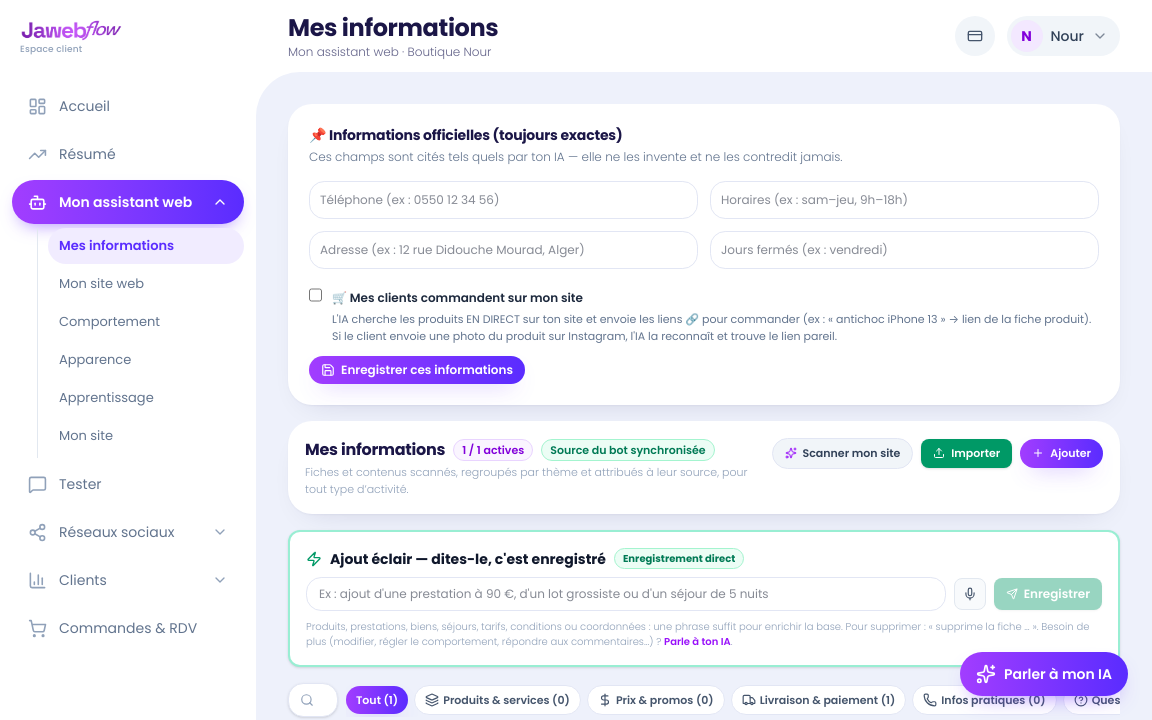
Test: « Mes informations » : l’ajout éclair marche, et mène au chat pour aller plus loin › le lien « Parle à ton IA » ouvre le chat
The width and height of the screenshot is (1152, 720).
Click the button "Parle à ton IA": (697, 642) x1=664 y1=634 x2=731 y2=649
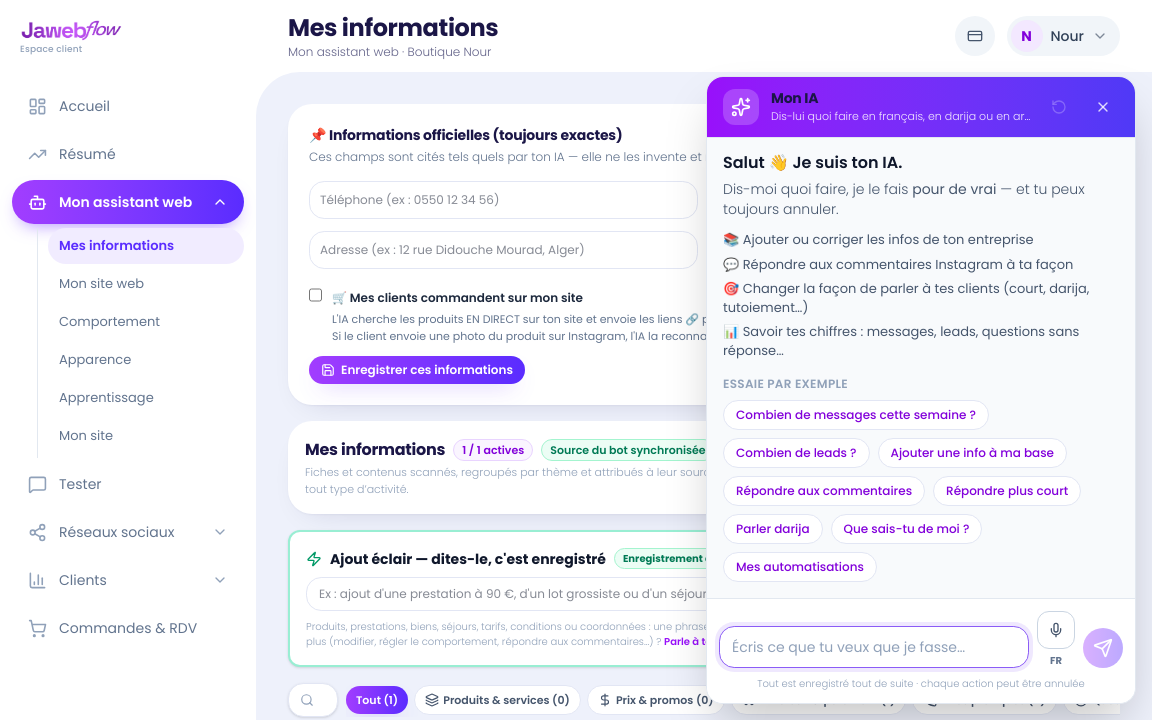
Result: the dialog named "Discussion avec mon IA" is shown at x1=706 y1=76 x2=1136 y2=704
